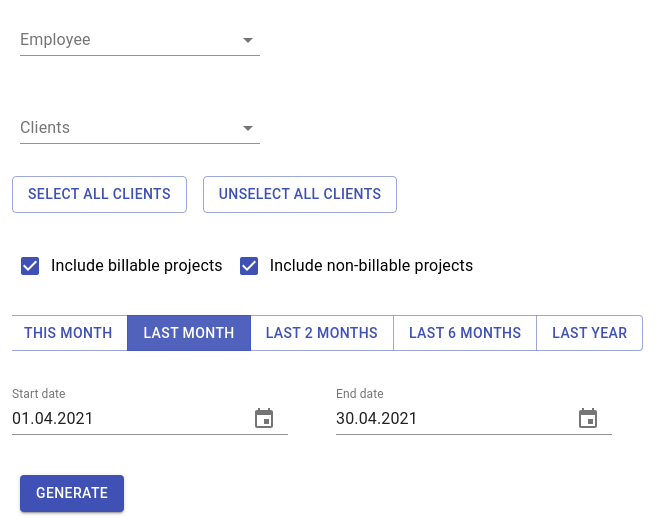
Test: salary report form › empty form › after havign selected an employee › has client select containing fetched clients
The width and height of the screenshot is (660, 532).
Check: the text "Generate" is shown, box [36, 481, 108, 506]
Step 1. Press the mouse on the button named "Employee" next to "Employee" → (140, 40), box [20, 24, 260, 56]
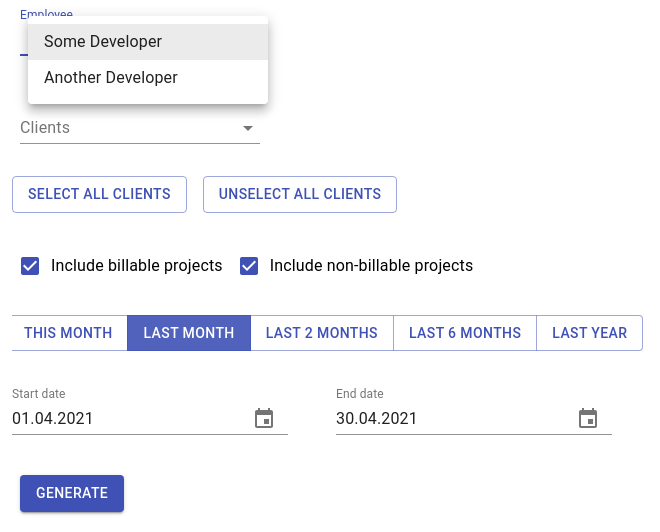
Step 2. Click the option "Some Developer" → click(148, 42), box [28, 24, 268, 60]
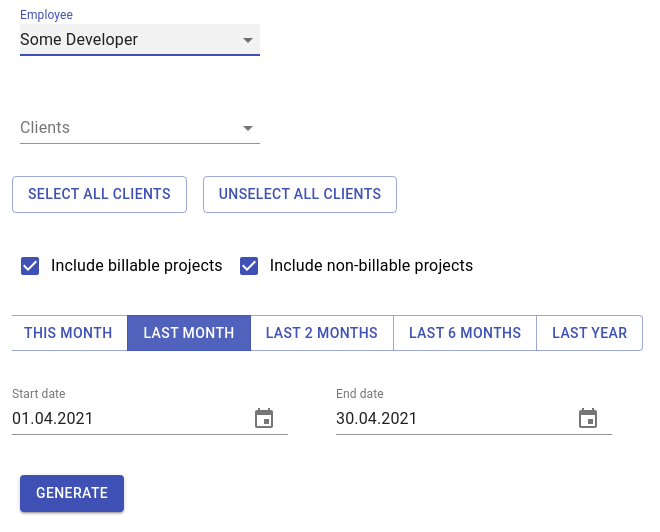
Step 3. Press the mouse on the button named "Clients" → (140, 128), box [20, 112, 260, 144]
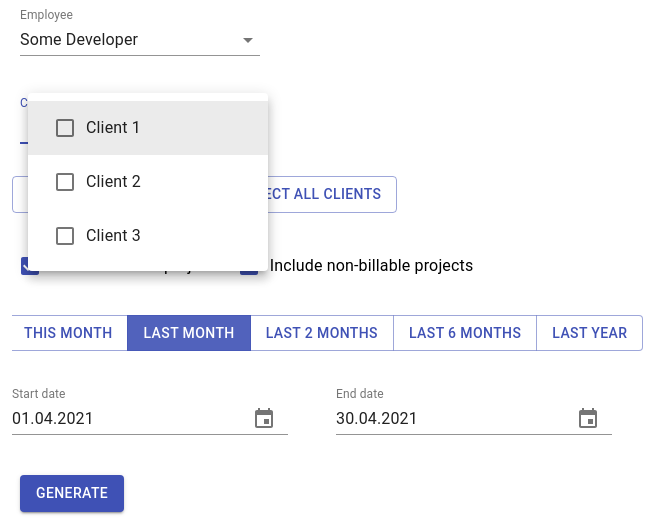
Check: the text "Client 1" is shown, box [86, 118, 141, 137]
Check: the text "Client 2" is shown, box [86, 172, 141, 191]
Check: the text "Client 3" is shown, box [86, 226, 141, 245]
